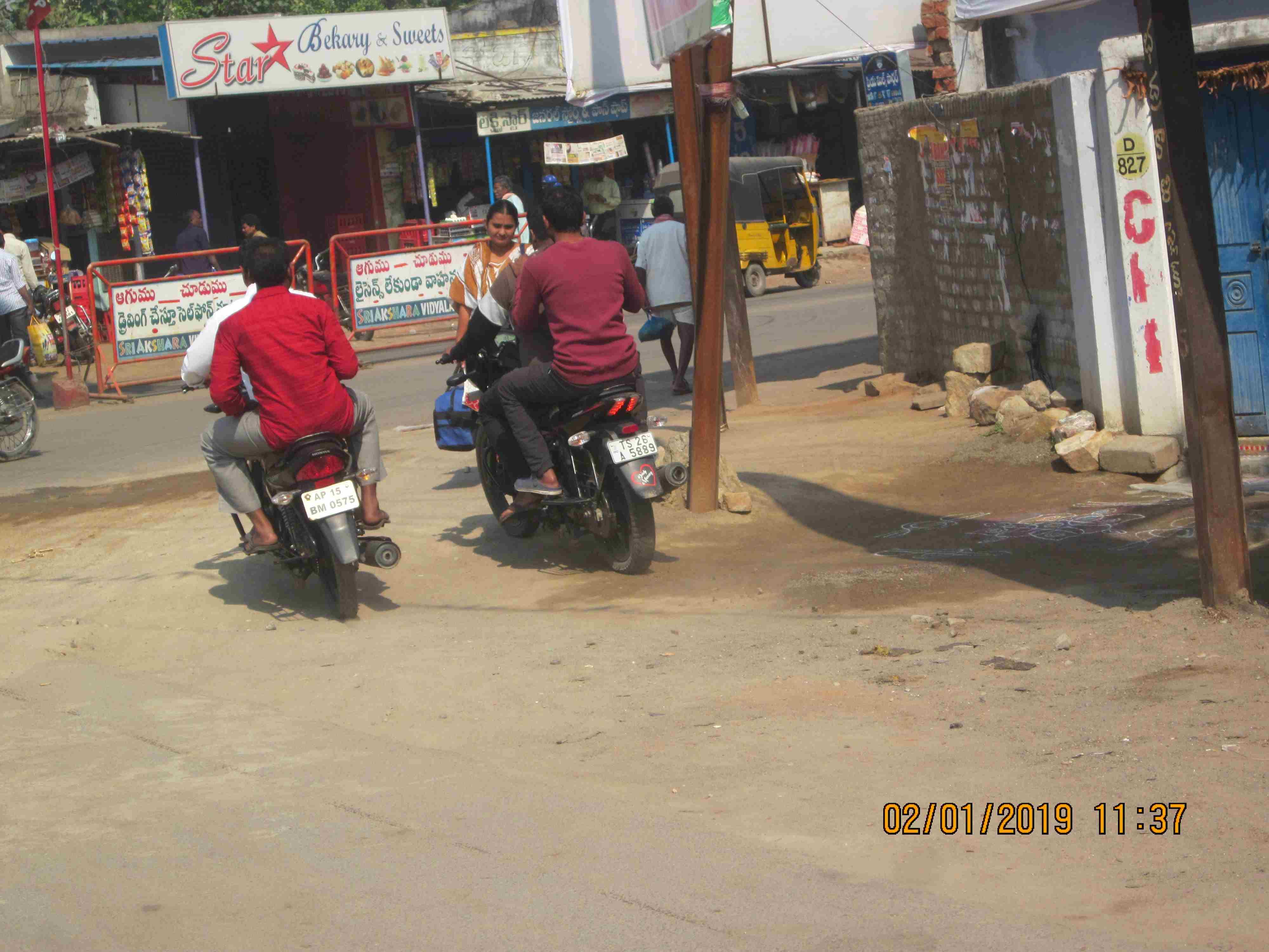plate: (287, 479, 365, 520), (597, 428, 670, 467)
